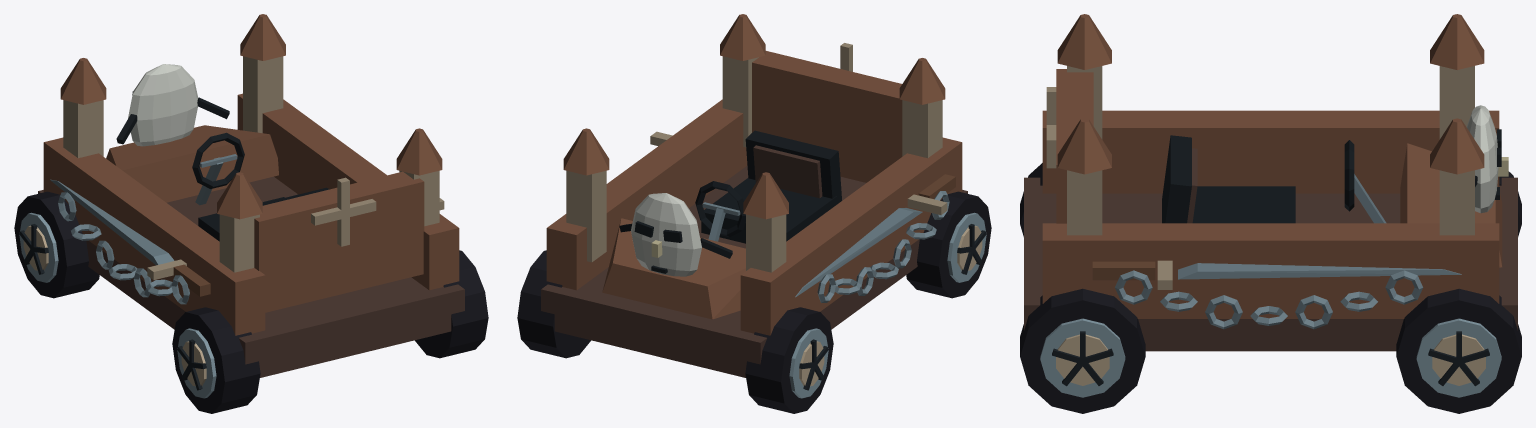
File: kart.glb
3 renders of one model, left to right at view 1: azimuth 30°, elevation 25°; view 2: azimuth 150°, elevation 25°; view 3: azimuth 270°, elevation 25°, orthographic. The views are drawn at different scales.
Parts seen in each view (by area): view 1: identity-reliquary-reliquary-arched-stone-chest, wheel-rear-left, wheel-front-left, identity-reliquary-motif-mask, wheel-rear-right, identity-reliquary-motif-swords, identity-reliquary-motif-chains, identity-reliquary-driver-cockpit; view 2: identity-reliquary-reliquary-arched-stone-chest, identity-reliquary-driver-cockpit, wheel-front-left, wheel-rear-left, identity-reliquary-motif-mask, wheel-front-right, identity-reliquary-motif-swords, identity-reliquary-motif-chains; view 3: identity-reliquary-reliquary-arched-stone-chest, wheel-front-right, wheel-rear-right, identity-reliquary-driver-cockpit, identity-reliquary-motif-swords, identity-reliquary-motif-chains, identity-reliquary-motif-mask.
Part boxes in pixels (<box>): identity-reliquary-reliquary-arched-stone-chest: <box>38,14,464,377</box>; wheel-rear-left: <box>172,307,260,413</box>; wheel-front-left: <box>14,191,99,298</box>; identity-reliquary-motif-mask: <box>116,64,229,146</box>; wheel-rear-right: <box>415,250,488,358</box>; identity-reliquary-motif-swords: <box>50,179,444,296</box>; identity-reliquary-motif-chains: <box>58,192,189,304</box>; identity-reliquary-driver-cockpit: <box>192,132,329,241</box>; identity-reliquary-reliquary-arched-stone-chest: <box>541,14,967,377</box>; identity-reliquary-driver-cockpit: <box>695,130,841,243</box>; wheel-front-left: <box>745,307,833,413</box>; wheel-rear-left: <box>906,191,991,298</box>; identity-reliquary-motif-mask: <box>619,193,732,276</box>; wheel-front-right: <box>517,250,590,358</box>; identity-reliquary-motif-swords: <box>650,131,955,297</box>; identity-reliquary-motif-chains: <box>817,191,949,302</box>; identity-reliquary-reliquary-arched-stone-chest: <box>1024,14,1517,351</box>; wheel-front-right: <box>1396,288,1521,413</box>; wheel-rear-right: <box>1020,288,1145,413</box>; identity-reliquary-driver-cockpit: <box>1162,135,1386,223</box>; identity-reliquary-motif-swords: <box>1092,260,1461,289</box>; identity-reliquary-motif-chains: <box>1115,270,1423,329</box>; identity-reliquary-motif-mask: <box>1466,105,1508,213</box>.
Size of the model in its own units: 2.04 by 1.51 by 2.56.
